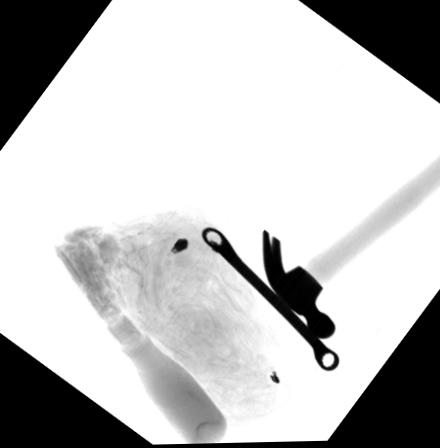Hammer: (259, 153, 440, 340)
Wrench: (198, 227, 338, 373)
